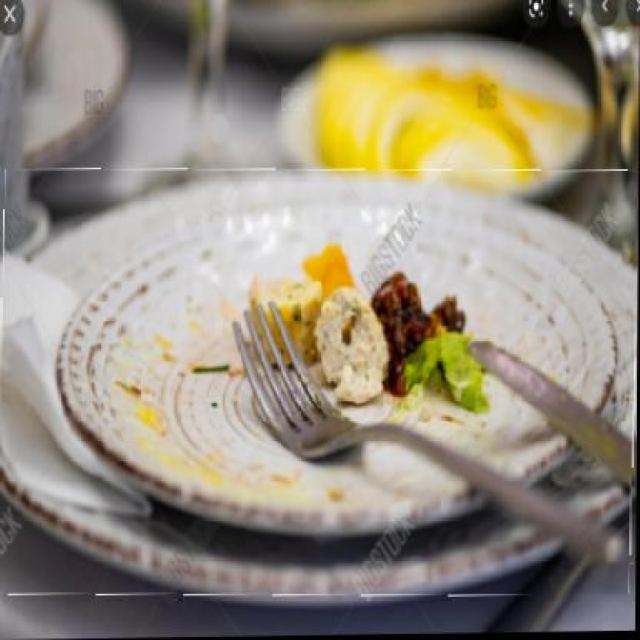Plate: (0, 165, 637, 602), (58, 208, 620, 500)
